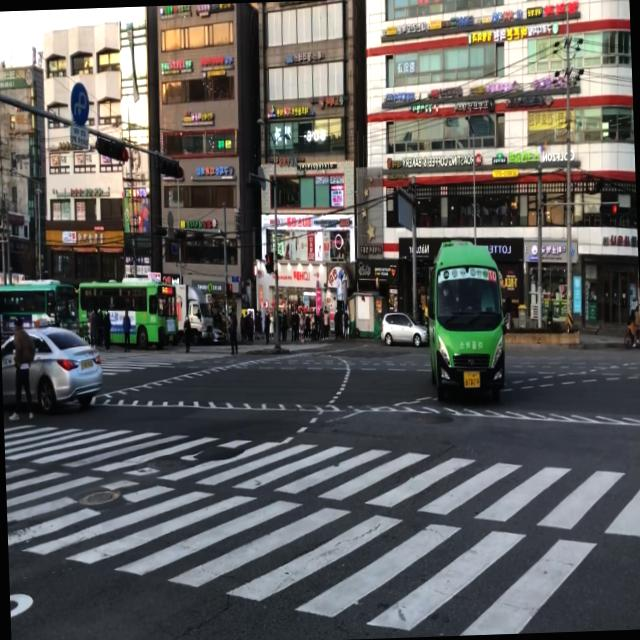bus-number: (488, 269, 496, 281)
